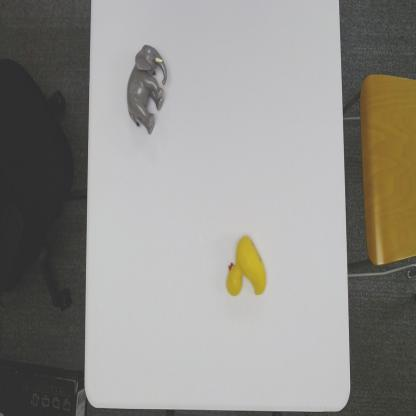Duck: (224, 233, 269, 301)
Elephant: (126, 42, 168, 137)
